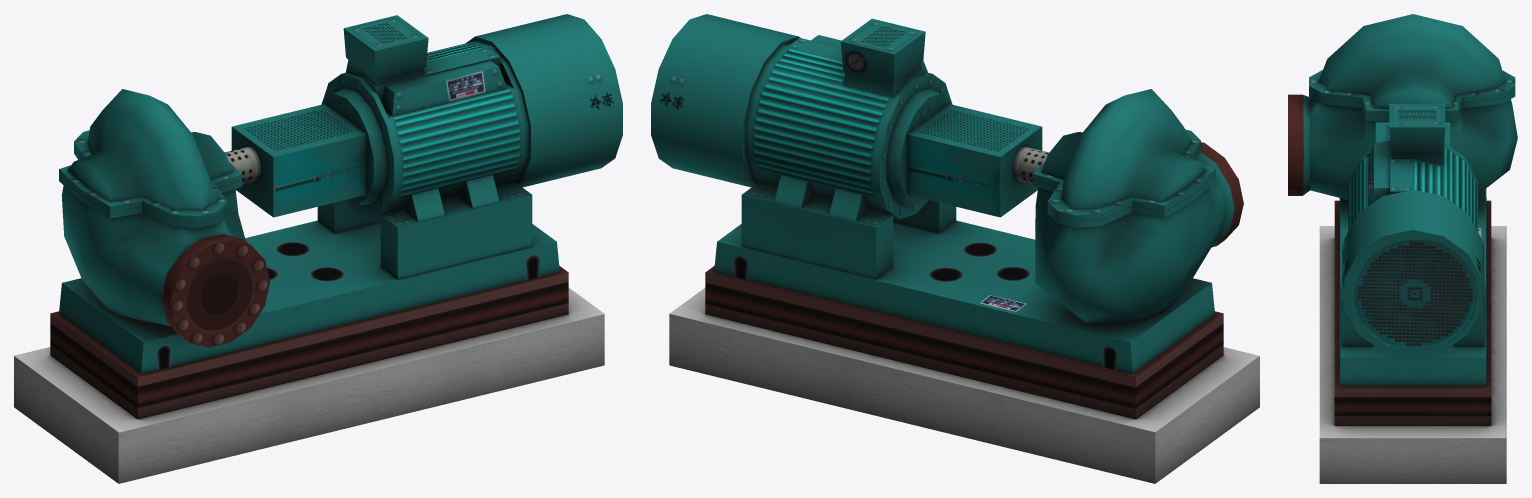
The model's file is pump.FBX.
The picture shows the model from 3 angles, left to right: view 1: azimuth 30°, elevation 25°; view 2: azimuth 150°, elevation 25°; view 3: azimuth 270°, elevation 25°; orthographic projection. The views are drawn at different scales.
Visible parts, largest first — view 1: pump; view 2: pump; view 3: pump.
Part boxes in pixels (left/top/right/bottom): pump: left=14, top=14, right=622, bottom=483; pump: left=651, top=14, right=1259, bottom=483; pump: left=1288, top=14, right=1517, bottom=483.
Bounding box in the file's own units: 65.66 × 40.25 × 28.22.
